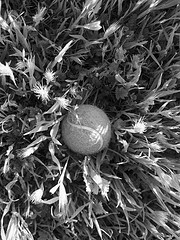tennis ball: (58, 104, 114, 156)
